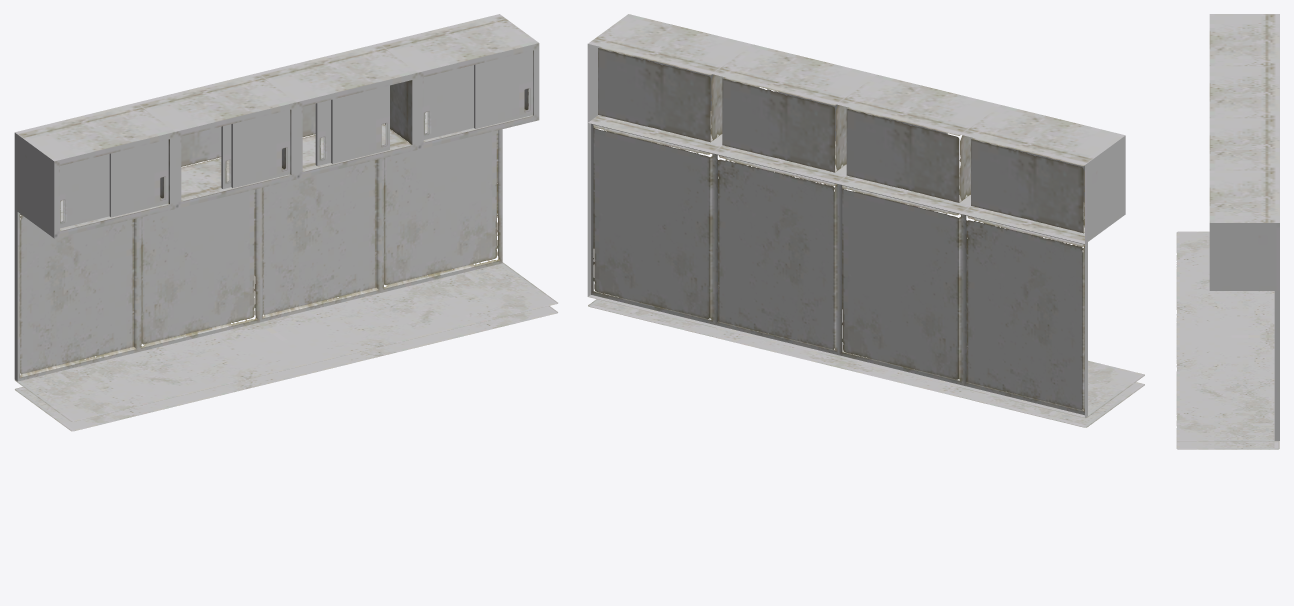
Rendered from 064_MedicalDesk.fbx.
3 renders of one model, left to right at view 1: azimuth 30°, elevation 25°; view 2: azimuth 150°, elevation 25°; view 3: azimuth 270°, elevation 25°, orthographic. The views are drawn at different scales.
Parts seen in each view (by area): view 1: LOD_1_Group_0_Sub_1__sm30_064_MedicalDesk01A_A_Mat; view 2: LOD_1_Group_0_Sub_1__sm30_064_MedicalDesk01A_A_Mat; view 3: LOD_1_Group_0_Sub_1__sm30_064_MedicalDesk01A_A_Mat.
Part boxes in pixels (<box>): LOD_1_Group_0_Sub_1__sm30_064_MedicalDesk01A_A_Mat: <box>14,14,557,431</box>; LOD_1_Group_0_Sub_1__sm30_064_MedicalDesk01A_A_Mat: <box>587,14,1144,427</box>; LOD_1_Group_0_Sub_1__sm30_064_MedicalDesk01A_A_Mat: <box>1176,14,1279,449</box>.
Size of the model in its own units: 2.81 by 2.31 by 0.5988.
